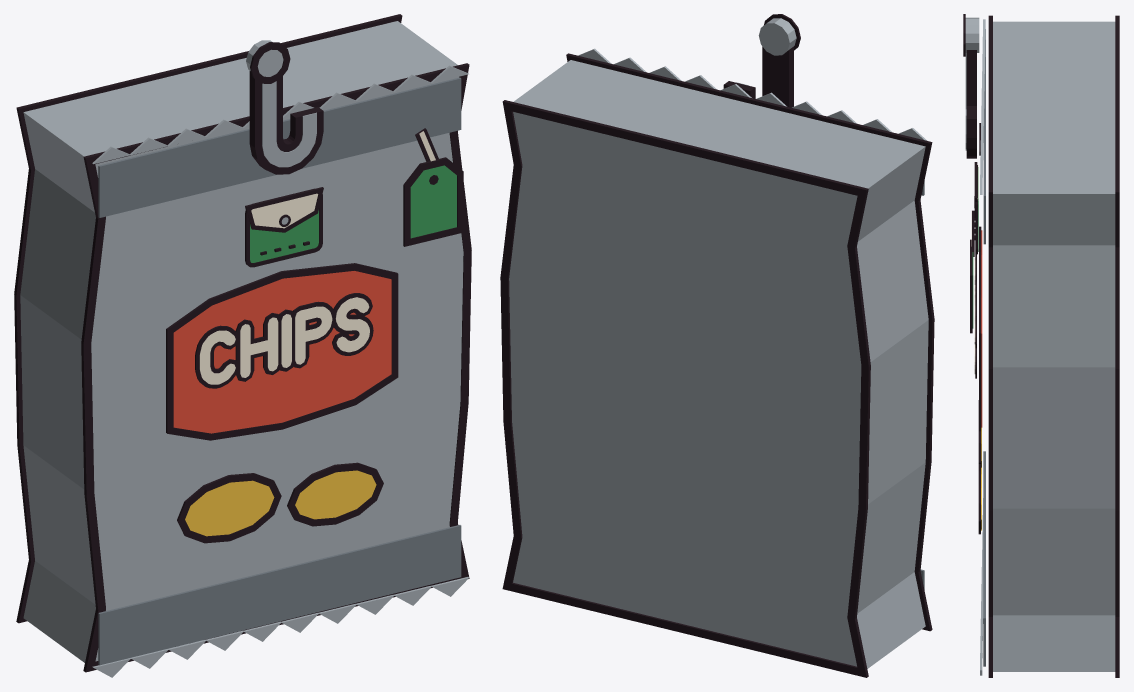
The picture shows the model from 3 angles, left to right: view 1: azimuth 30°, elevation 25°; view 2: azimuth 150°, elevation 25°; view 3: azimuth 270°, elevation 25°; orthographic projection. The views are drawn at different scales.
Visible parts, largest first — view 1: Bag Holders proposal; view 2: Bag Holders proposal; view 3: Bag Holders proposal.
Part boxes in pixels (box(x1,y1,x2,y2)): Bag Holders proposal: box(14, 14, 471, 677); Bag Holders proposal: box(500, 14, 934, 677); Bag Holders proposal: box(963, 14, 1119, 677).
Size of the model in its own units: 0.6553 by 0.9778 by 0.2421.
